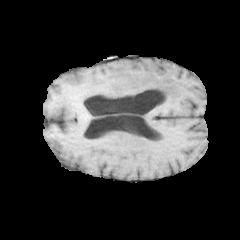glioma: (57, 65, 187, 118)
